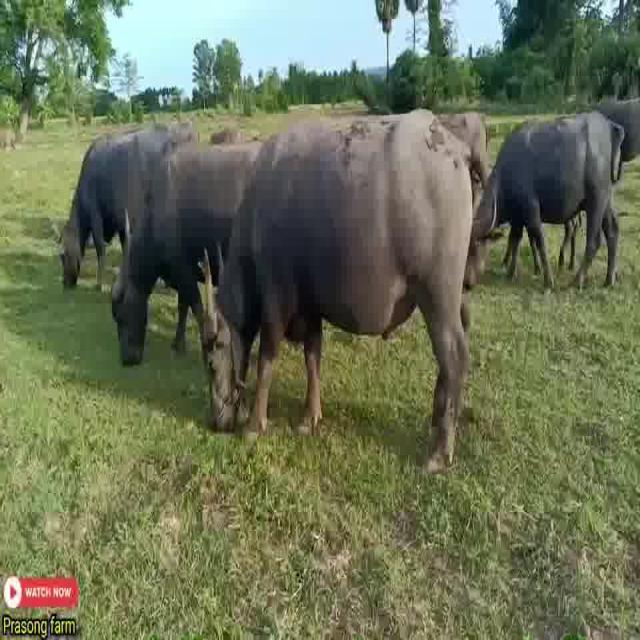buffalo: (441, 87, 496, 188)
